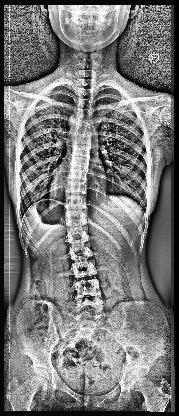Vertebrae: (74, 299, 102, 315), (74, 280, 99, 296), (66, 228, 90, 242), (72, 262, 96, 276), (65, 211, 87, 225), (70, 246, 92, 260), (66, 196, 86, 210), (66, 182, 86, 194), (74, 108, 92, 120), (73, 132, 91, 144), (71, 156, 89, 168), (70, 146, 90, 156), (76, 120, 92, 132), (76, 88, 94, 98), (68, 170, 86, 180), (76, 99, 92, 108)
